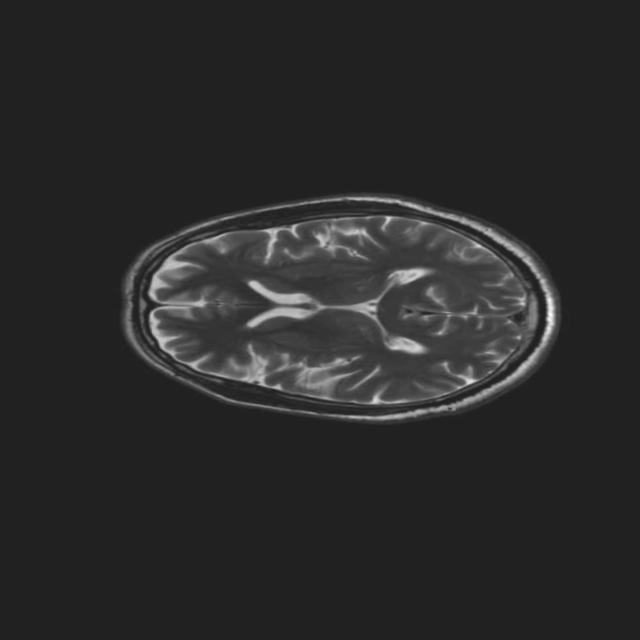NoTumor: (115, 177, 563, 434)
